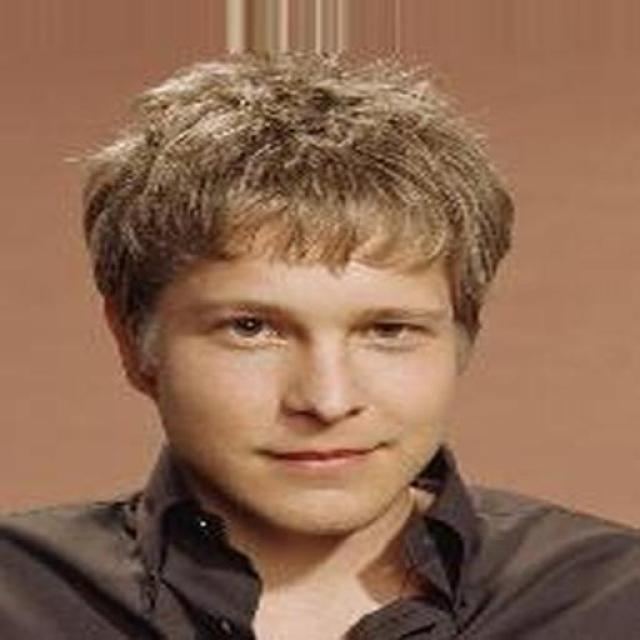bareface: (93, 84, 453, 524)
